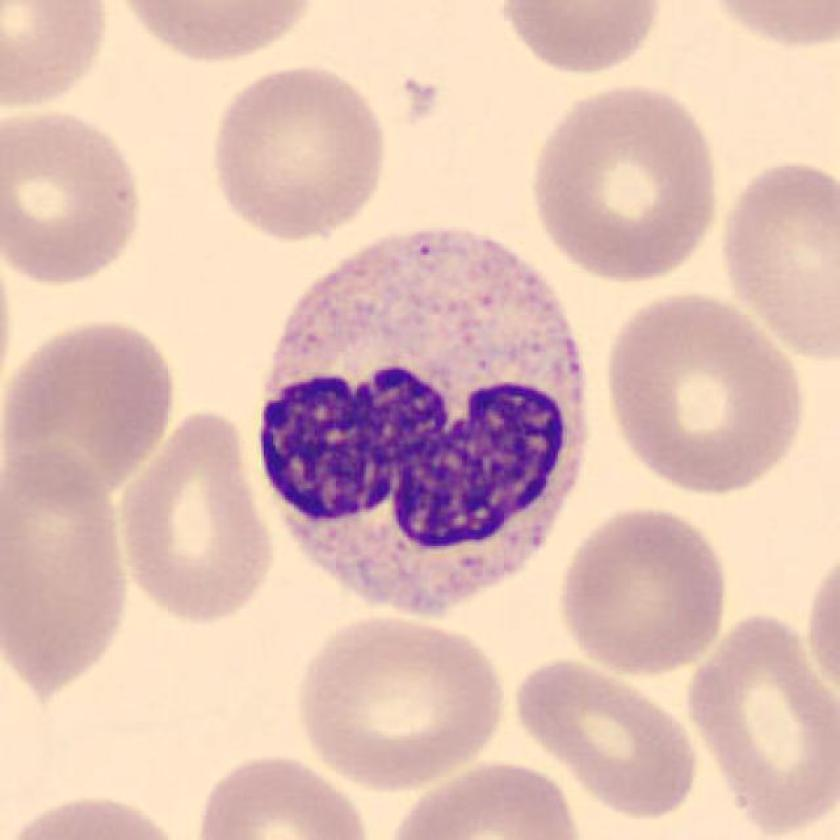neutrophil: (261, 230, 586, 617)
